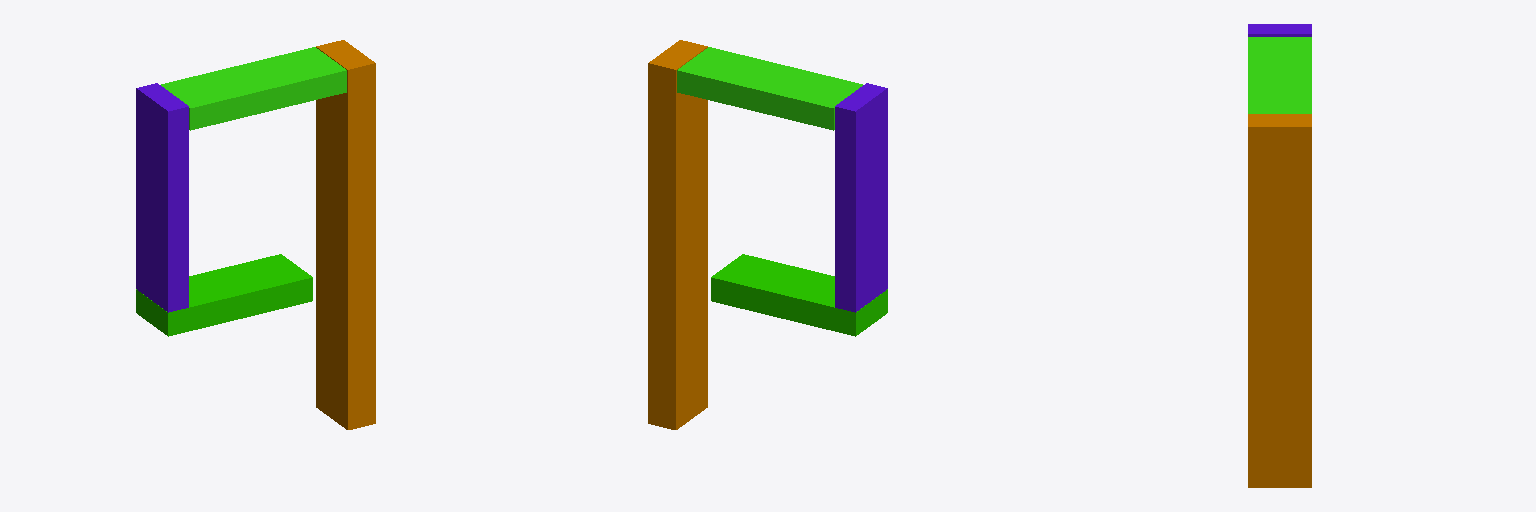
File: tinker.obj
The picture shows the model from 3 angles: view 1: azimuth 30°, elevation 25°; view 2: azimuth 150°, elevation 25°; view 3: azimuth 270°, elevation 25°; orthographic projection.
Visible parts, largest first — view 1: obj_0; view 2: obj_0; view 3: obj_0.
Part boxes in pixels (x1,y1,x2,y2): obj_0: (136, 40, 375, 429); obj_0: (648, 40, 887, 429); obj_0: (1248, 24, 1311, 487).
Size of the model in its own units: 200 by 334 by 53.45.